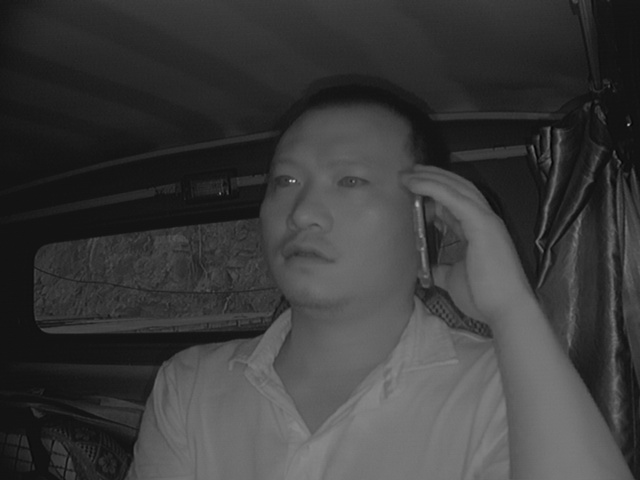hand: (398, 159, 514, 319)
